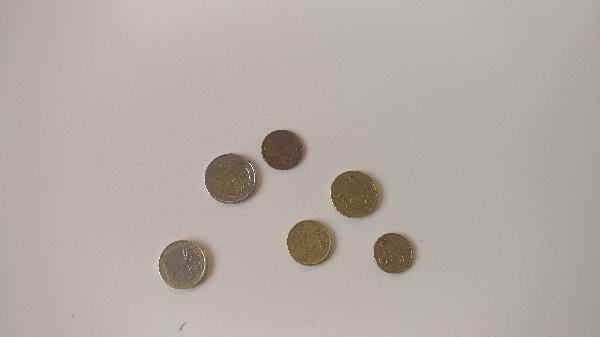Fifty Cent: (332, 170, 380, 218)
Five Cent: (261, 129, 306, 170)
One Euro: (158, 238, 210, 292)
Ten Cent: (370, 232, 418, 275)
Twenty Cent: (287, 219, 333, 265)
Two Euro: (206, 153, 256, 204)
